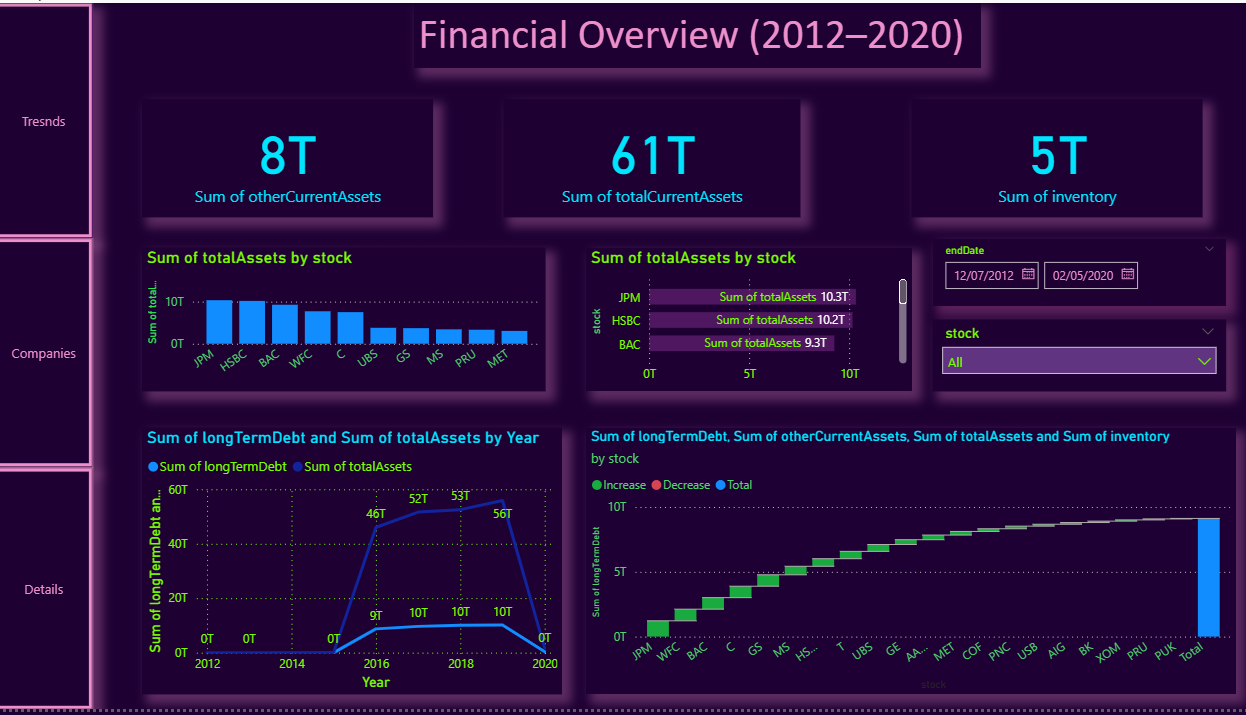

Layout of this report page (visuals, bound fields, positions):
{"tool":"powerbi","page":{"name":"HOME","canvas":[1280,720],"ordinal":0},"visuals":[{"type":"card","fields":{"Values":["Sum(4400.otherCurrentAssets)"]},"box":[149.8,97.8,296.6,120.8],"z":0},{"type":"card","fields":{"Values":["Sum(4400.totalCurrentAssets)"]},"box":[518.2,97.8,302.7,120.8],"z":1000},{"type":"card","fields":{"Values":["Sum(4400.inventory)"]},"box":[934,97.8,296.6,120.8],"z":2000},{"type":"slicer","fields":{"Values":["4400.endDate"]},"box":[955.4,240,299.6,68.8],"z":3000},{"type":"lineChart","fields":{"Category":["4400.endDate.Variation.Date Hierarchy.Year","4400.endDate.Variation.Date Hierarchy.Quarter","4400.endDate.Variation.Date Hierarchy.Month","4400.endDate.Variation.Date Hierarchy.Day"],"Y":["Sum(4400.longTermDebt)","Sum(4400.totalAssets)"]},"box":[149.8,432.6,428,272.1],"z":4000},{"type":"clusteredColumnChart","fields":{"Category":["4400.stock"],"Y":["Sum(4400.totalAssets)"]},"box":[149.8,249.2,411.2,146.8],"z":5000},{"type":"clusteredBarChart","fields":{"Category":["4400.stock"],"Y":["Sum(4400.totalAssets)"]},"box":[602.3,249.2,331.7,146.8],"z":6000},{"type":"waterfallChart","fields":{"Category":["4400.stock"],"Y":["Sum(4400.longTermDebt)"]},"box":[602.3,432.6,661.9,272.1],"z":7000},{"type":"slicer","fields":{"Values":["4400.stock"]},"box":[955.4,322.5,299.6,73.4],"z":8000},{"type":"actionButton","box":[0,0,100,240],"z":9000},{"type":"actionButton","box":[0,240,100,233.3],"z":10000},{"type":"actionButton","box":[0,473.3,100,246.7],"z":11000},{"type":"textbox","box":[426.5,0,577.8,65.7],"z":12000}]}

Visuals, with their boxes on the page's 1280x720 design canvas (x1, y1, x2, y2). These are canvas units, not pixel positions in the 1246x715 screenshot, which may show the page scaled, cropped or inside an application window:
card - Sum(4400.otherCurrentAssets): [150,98,446,219]
card - Sum(4400.totalCurrentAssets): [518,98,821,219]
card - Sum(4400.inventory): [934,98,1231,219]
slicer - 4400.endDate: [955,240,1255,309]
lineChart - 4400.endDate.Variation.Date Hierarchy.Year x 4400.endDate.Variation.Date Hierarchy.Quarter: [150,433,578,705]
clusteredColumnChart - 4400.stock x Sum(4400.totalAssets): [150,249,561,396]
clusteredBarChart - 4400.stock x Sum(4400.totalAssets): [602,249,934,396]
waterfallChart - 4400.stock x Sum(4400.longTermDebt): [602,433,1264,705]
slicer - 4400.stock: [955,322,1255,396]
actionButton: [0,0,100,240]
actionButton: [0,240,100,473]
actionButton: [0,473,100,720]
textbox: [426,0,1004,66]
